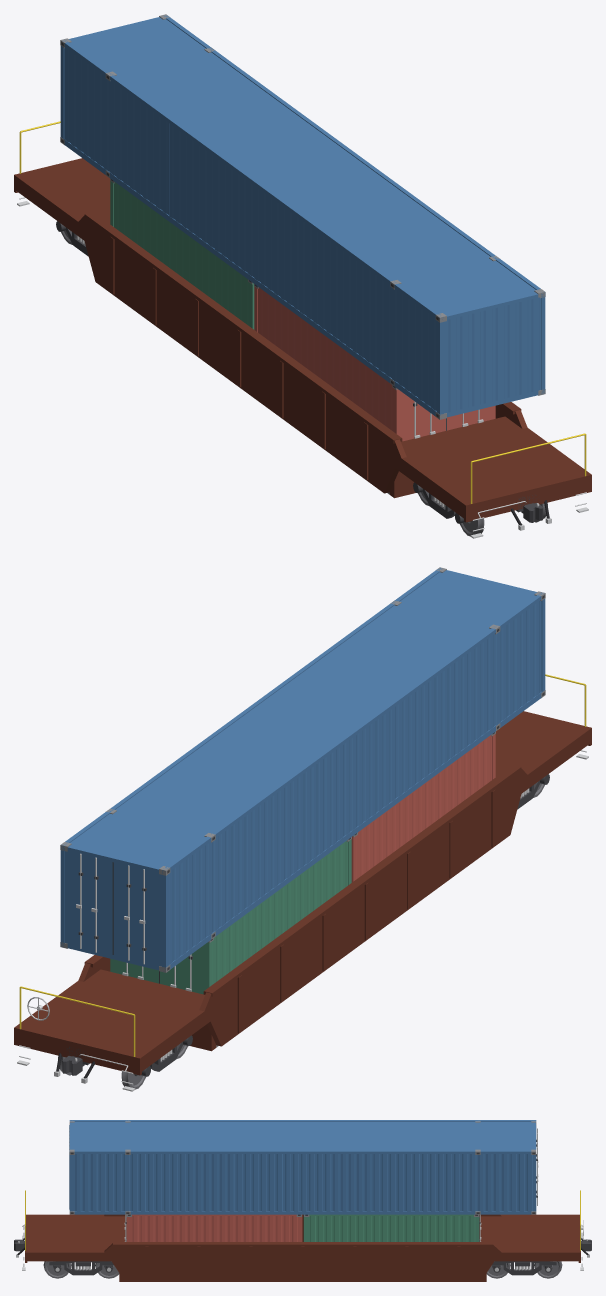
The model's file is wagon_close.fbx.
The picture shows the model from 3 angles, top to bottom: view 1: azimuth 30°, elevation 25°; view 2: azimuth 150°, elevation 25°; view 3: azimuth 270°, elevation 25°; orthographic projection. The views are drawn at different scales.
Visible parts, largest first — view 1: 22_wagon_close; view 2: 22_wagon_close; view 3: 22_wagon_close.
Part boxes in pixels (bbox=[...]): 22_wagon_close: bbox=[14, 14, 591, 538]; 22_wagon_close: bbox=[14, 567, 591, 1091]; 22_wagon_close: bbox=[14, 1120, 591, 1281].
Size of the model in its own units: 3.16 by 5.08 by 20.
